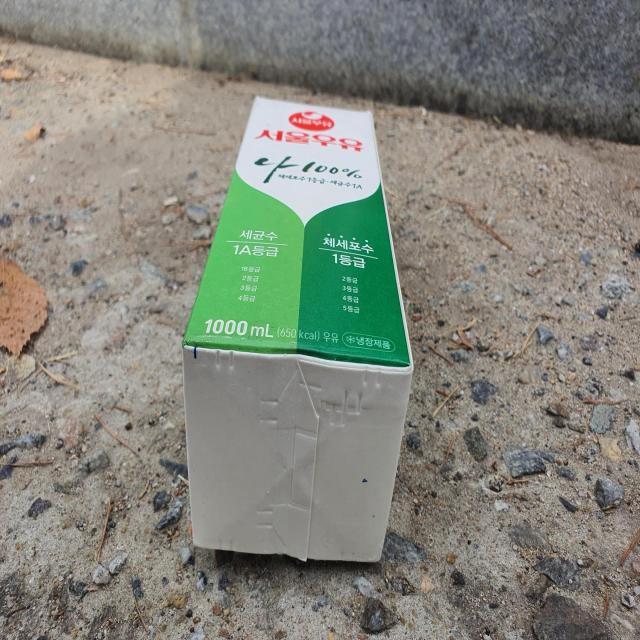paperpack: (183, 96, 413, 562)
